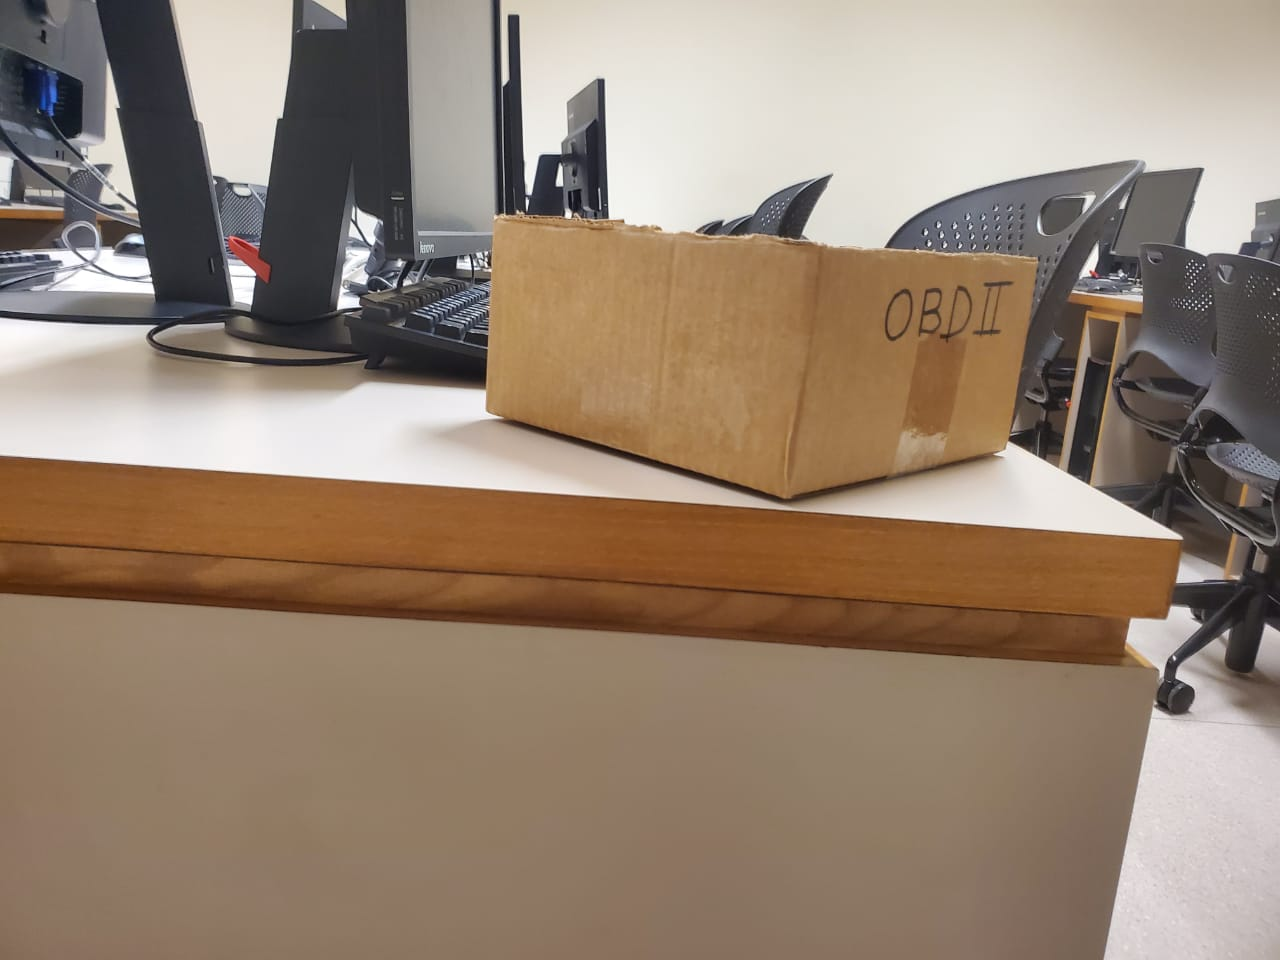CBox: (486, 197, 1042, 499)
